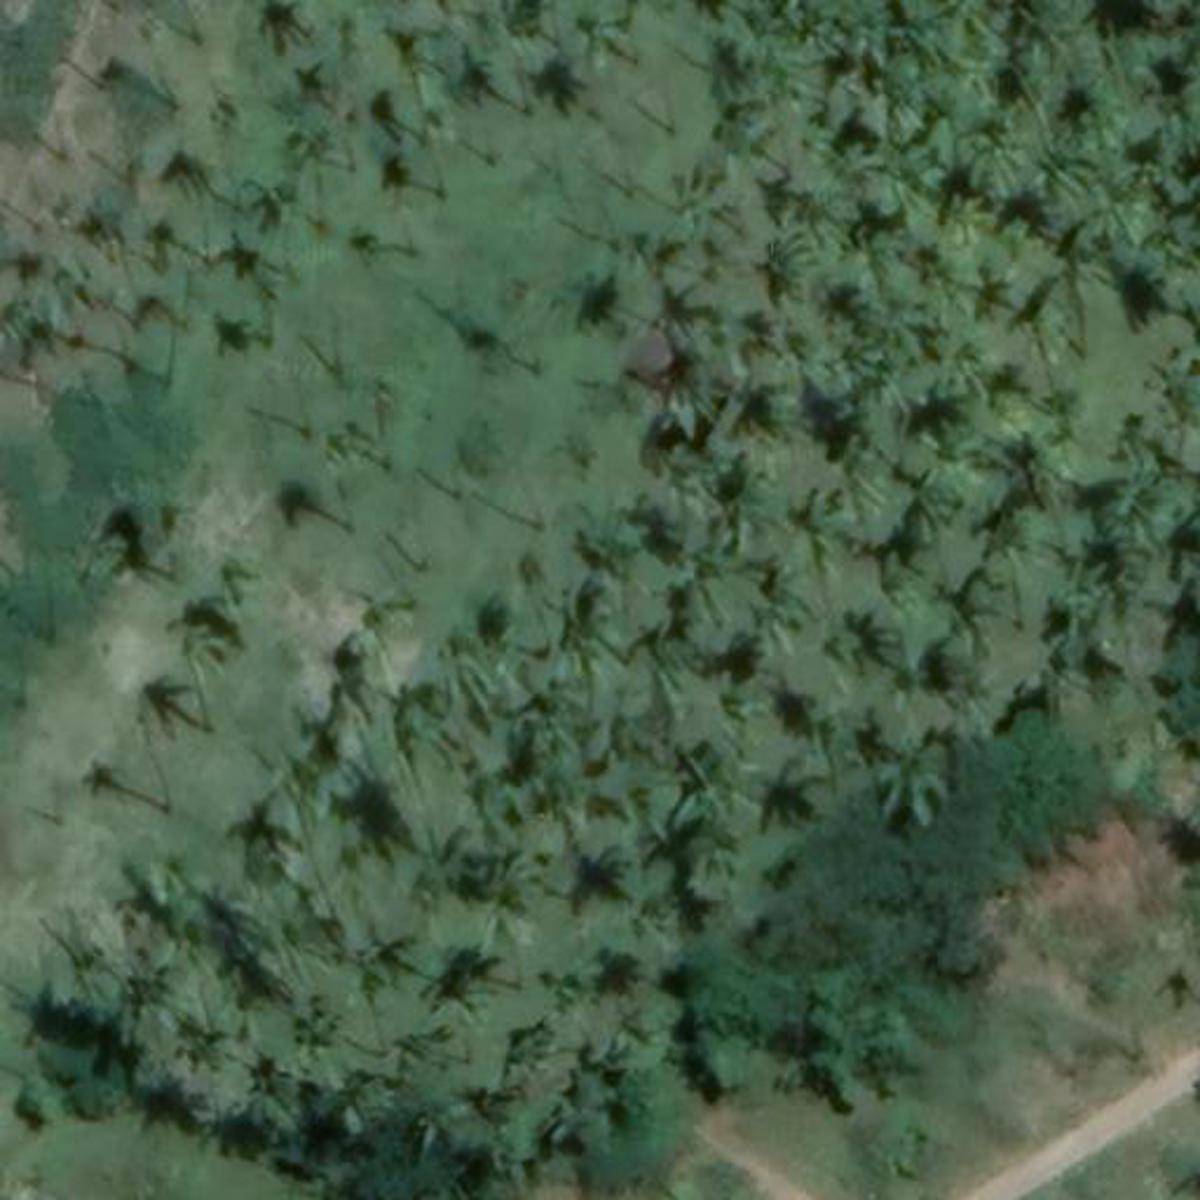coconut: (434, 373, 524, 456), (209, 225, 286, 301), (100, 279, 170, 362), (303, 257, 368, 344), (525, 407, 597, 485), (263, 338, 341, 408), (180, 319, 254, 390), (63, 370, 138, 438), (474, 299, 549, 366), (335, 437, 399, 513), (5, 266, 74, 333), (238, 421, 315, 478), (151, 399, 222, 459), (415, 438, 470, 516), (387, 284, 454, 347), (553, 321, 605, 396), (114, 195, 176, 258), (362, 362, 416, 413)
